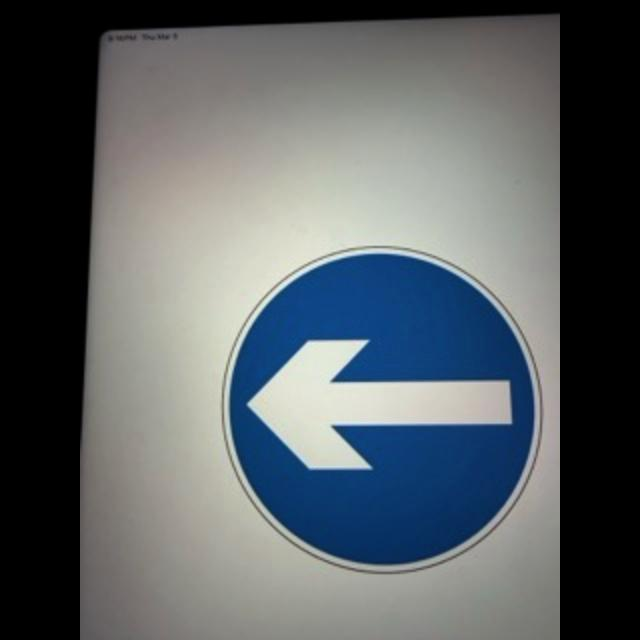TURN LEFT: (221, 246, 544, 576)
